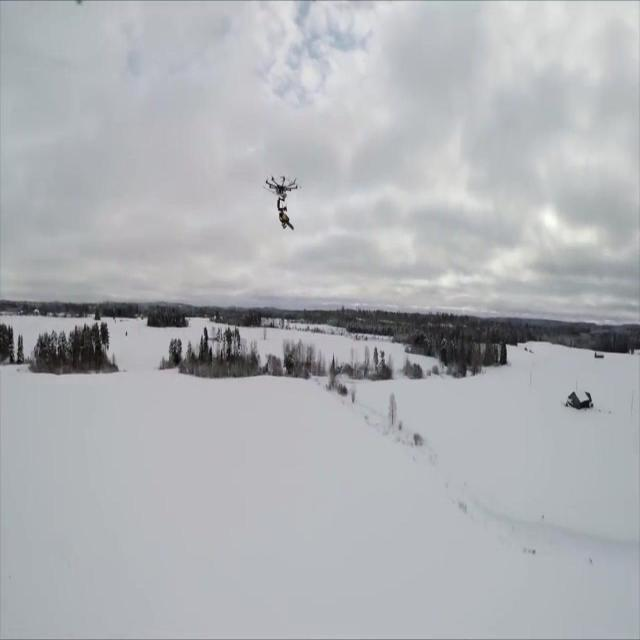drone: (262, 170, 303, 234)
